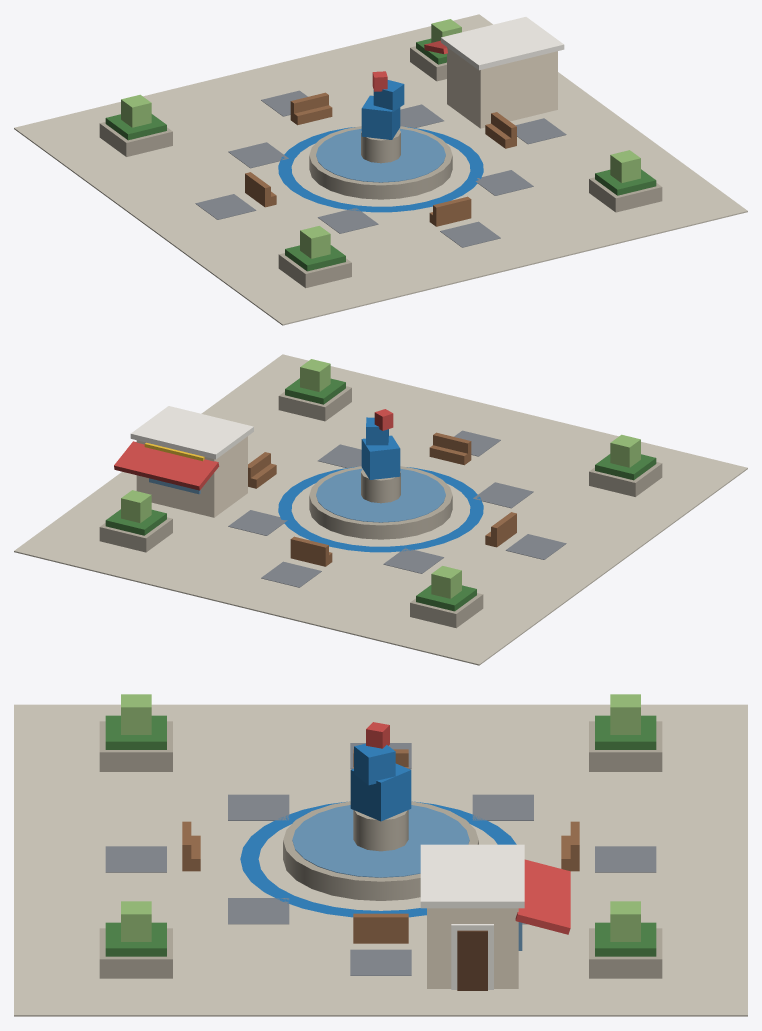
The model's file is plaza.glb.
The picture shows the model from 3 angles, top to bottom: view 1: azimuth 30°, elevation 25°; view 2: azimuth 150°, elevation 25°; view 3: azimuth 270°, elevation 25°; orthographic projection. The views are drawn at different scales.
Visible parts, largest first — view 1: paving, tile (×8), kiosk, planter (×4), fountain_water, kiosk_roof, fountain_basin, tile_ring, tree_spot (×3), planter_hedge (×3), sculpture (×2), bench_back (×2) (+2 smaller); view 2: paving, tile (×7), planter (×4), fountain_water, kiosk_roof, kiosk, tree_spot (×4), planter_hedge (×4), fountain_basin, tile_ring, awning, sculpture (+3 smaller); view 3: paving, tile (×6), planter (×4), fountain_water, kiosk_roof, planter_hedge (×4), tree_spot (×4), kiosk, sculpture (×3), fountain_basin, tile_ring, awning (+5 smaller).
Part boxes in pixels (box(x1,y1,x2,y2)): paving: box(14, 14, 747, 325); tile (×8): box(195, 90, 566, 247); kiosk: box(447, 47, 557, 128); planter (×4): box(99, 46, 662, 288); fountain_water: box(316, 128, 445, 182); kiosk_roof: box(441, 17, 564, 70); fountain_basin: box(309, 126, 452, 199); tile_ring: box(278, 126, 483, 212); tree_spot (×3): box(121, 94, 640, 258); planter_hedge (×3): box(105, 114, 656, 271); sculpture (×2): box(361, 80, 404, 139); bench_back (×2): box(290, 92, 471, 217); paving: box(14, 354, 747, 665); tile (×7): box(228, 430, 566, 587); planter (×4): box(99, 386, 662, 628); fountain_water: box(316, 468, 445, 522); kiosk_roof: box(130, 406, 253, 459); kiosk: box(136, 436, 247, 517); tree_spot (×4): box(121, 359, 640, 598); planter_hedge (×4): box(105, 378, 656, 611); fountain_basin: box(309, 466, 452, 539); tile_ring: box(278, 466, 483, 552); awning: box(114, 441, 219, 490); sculpture: box(361, 435, 400, 479); paving: box(14, 704, 747, 1016); tile (×6): box(105, 794, 656, 975); planter (×4): box(99, 721, 662, 978); fountain_water: box(292, 805, 469, 877); kiosk_roof: box(420, 844, 524, 908); planter_hedge (×4): box(105, 715, 656, 956); tree_spot (×4): box(121, 694, 640, 941); kiosk: box(427, 908, 518, 988); sculpture (×3): box(350, 722, 411, 821); fountain_basin: box(283, 801, 478, 900); tile_ring: box(240, 801, 516, 917); awning: box(515, 859, 570, 934).
Size of the model in its own units: 24 by 4.8 by 24.
